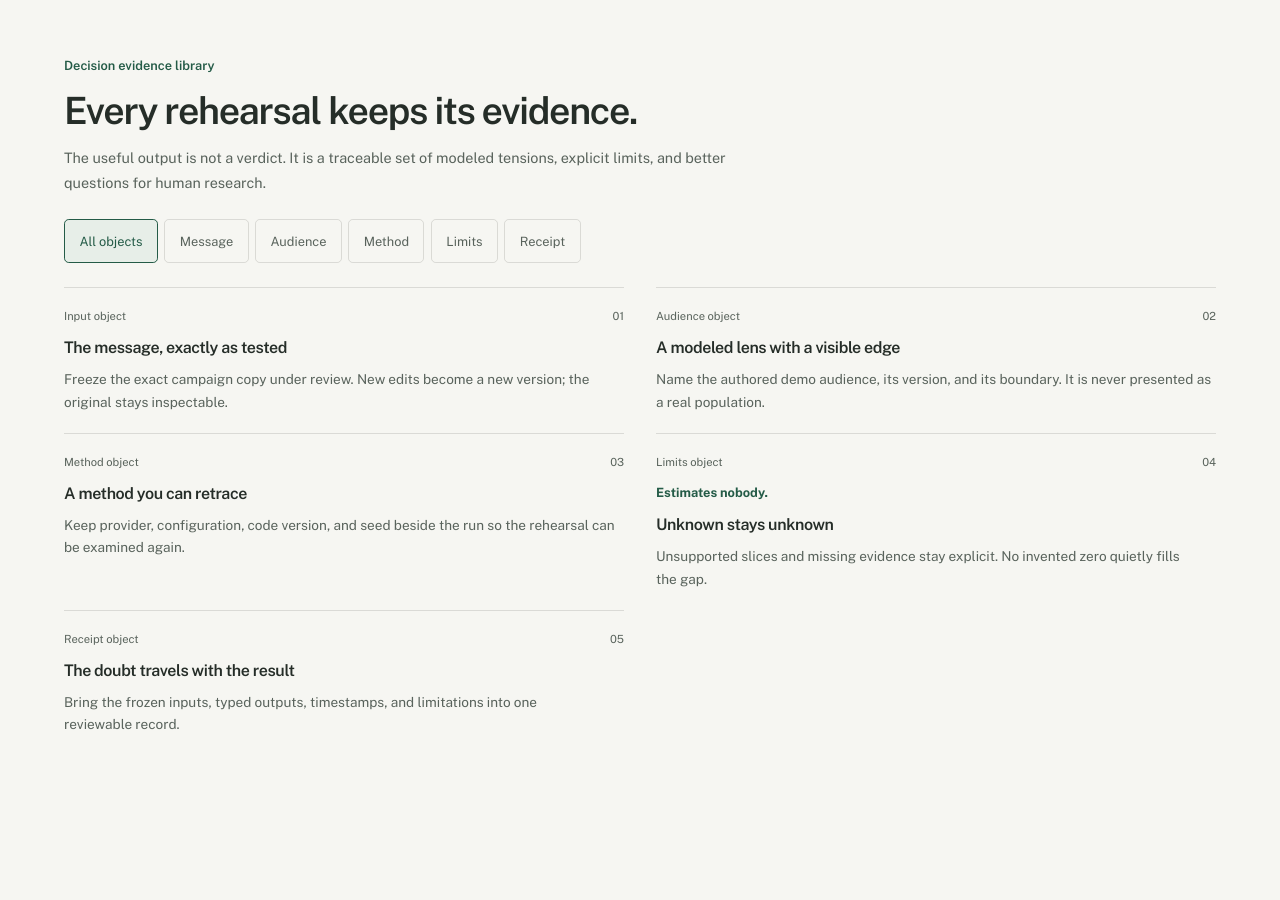
Test case: EvidenceLibrary › filters evidence objects without losing the declared boundary
The image size is (1280, 900).
What coordinates should you click on to do the following:
click the button "Limits"
I would click on:
 (464, 241)
Its box is x1=431 y1=219 x2=498 y2=263.
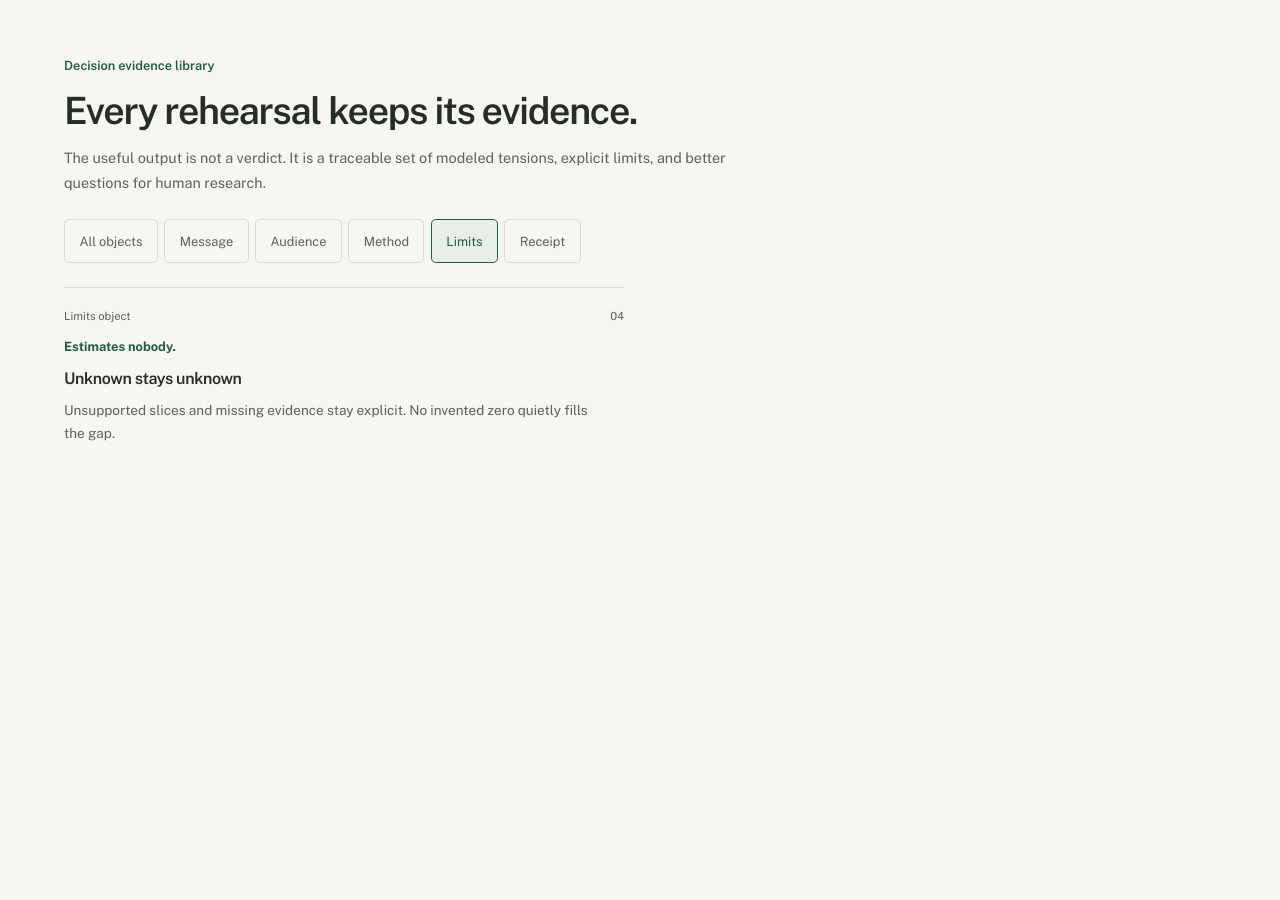
Expected: the heading "Unknown stays unknown" is shown, x1=64 y1=369 x2=242 y2=388
Now the heading "A method you can retrace" is gone
